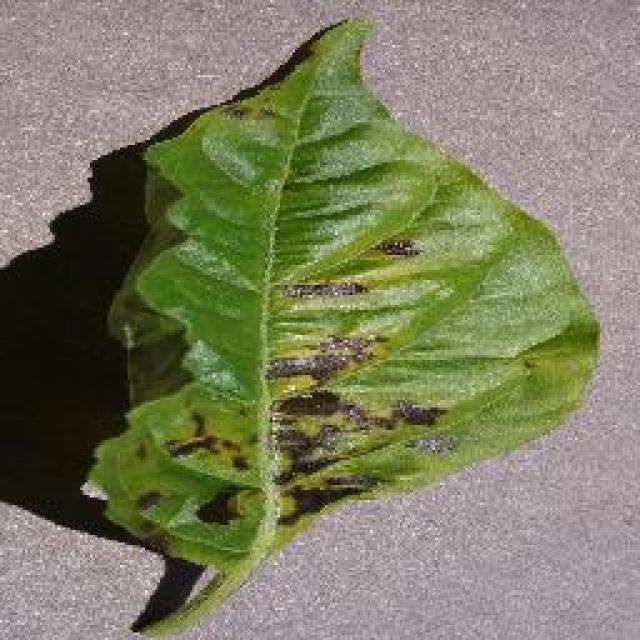Chilli_Bacterial_Spot: (80, 12, 602, 638), (87, 230, 455, 570), (155, 328, 447, 530), (263, 230, 445, 528), (265, 327, 390, 385), (158, 407, 252, 475), (262, 348, 350, 382), (315, 328, 387, 368), (193, 485, 245, 530), (275, 278, 370, 302), (272, 388, 342, 420), (390, 395, 448, 430), (372, 232, 420, 260), (225, 450, 253, 475)
